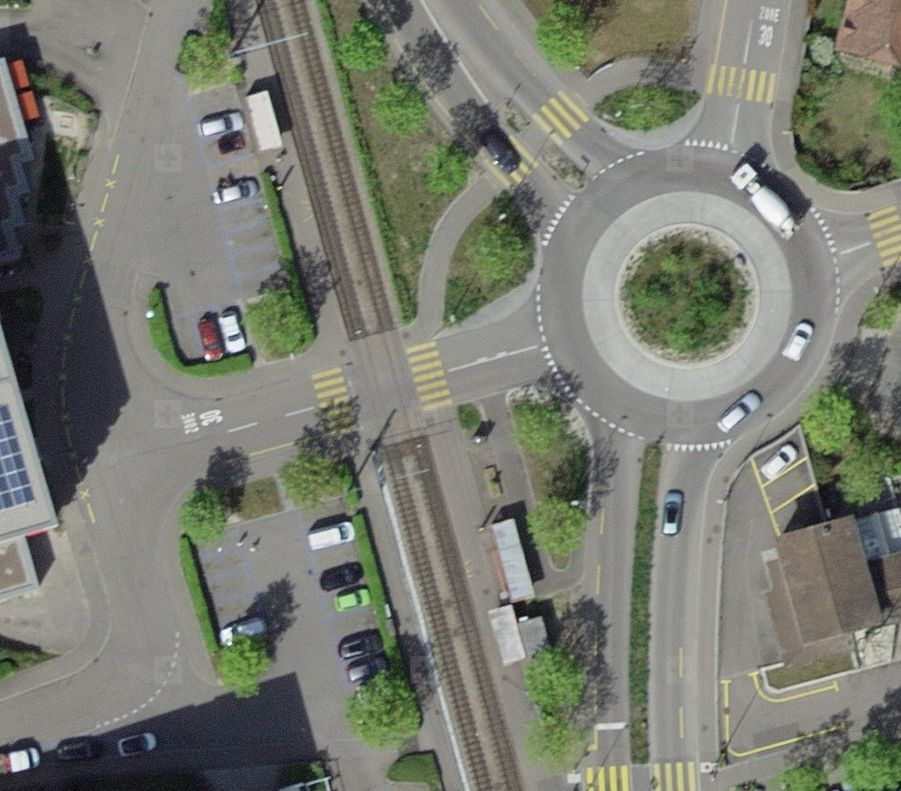solar: (1, 405, 38, 520)
